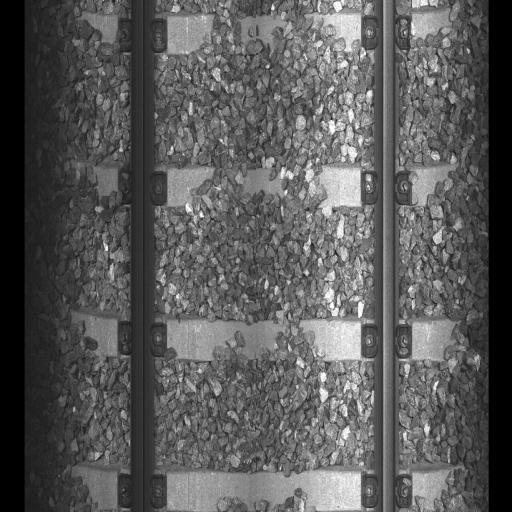sleeper: (72, 306, 458, 368), (72, 161, 458, 213), (71, 9, 459, 58), (72, 462, 458, 508)
